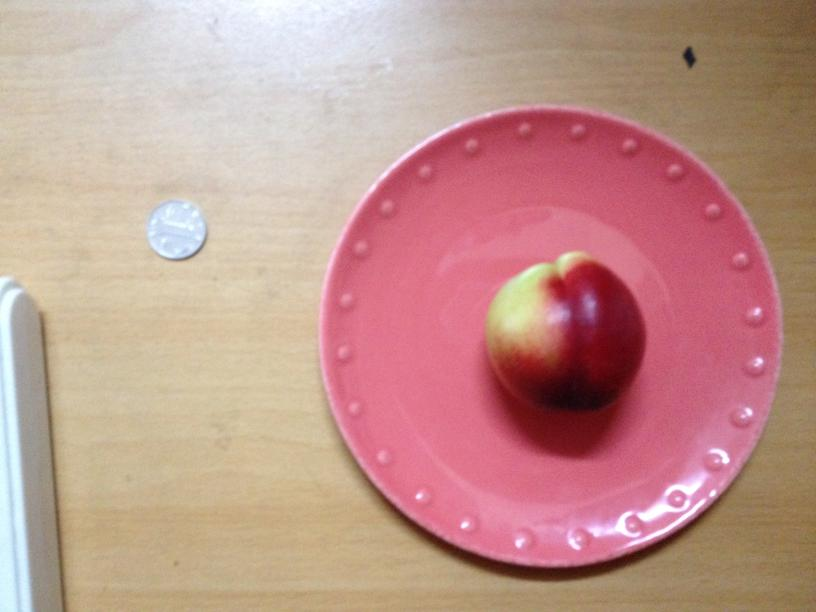coin: (146, 199, 208, 259)
peach: (481, 248, 646, 413)
